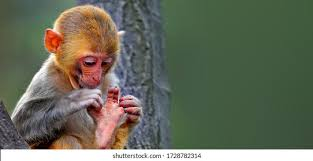monkey: (6, 7, 164, 150)
